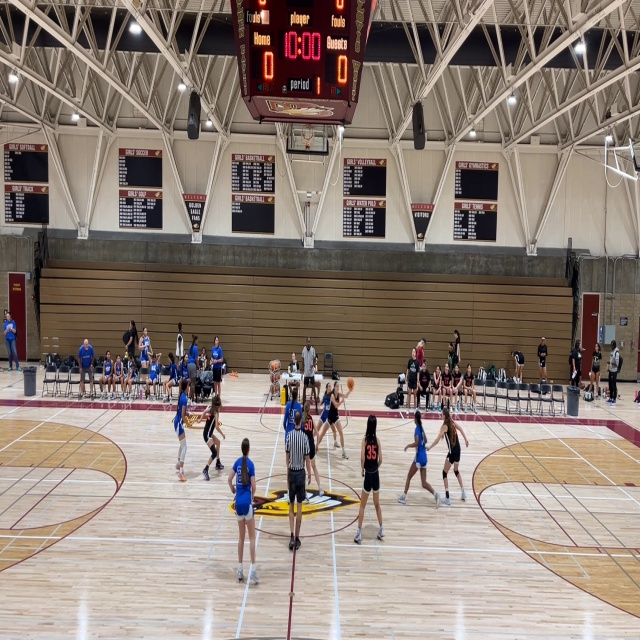Basketball: (347, 378, 354, 390)
